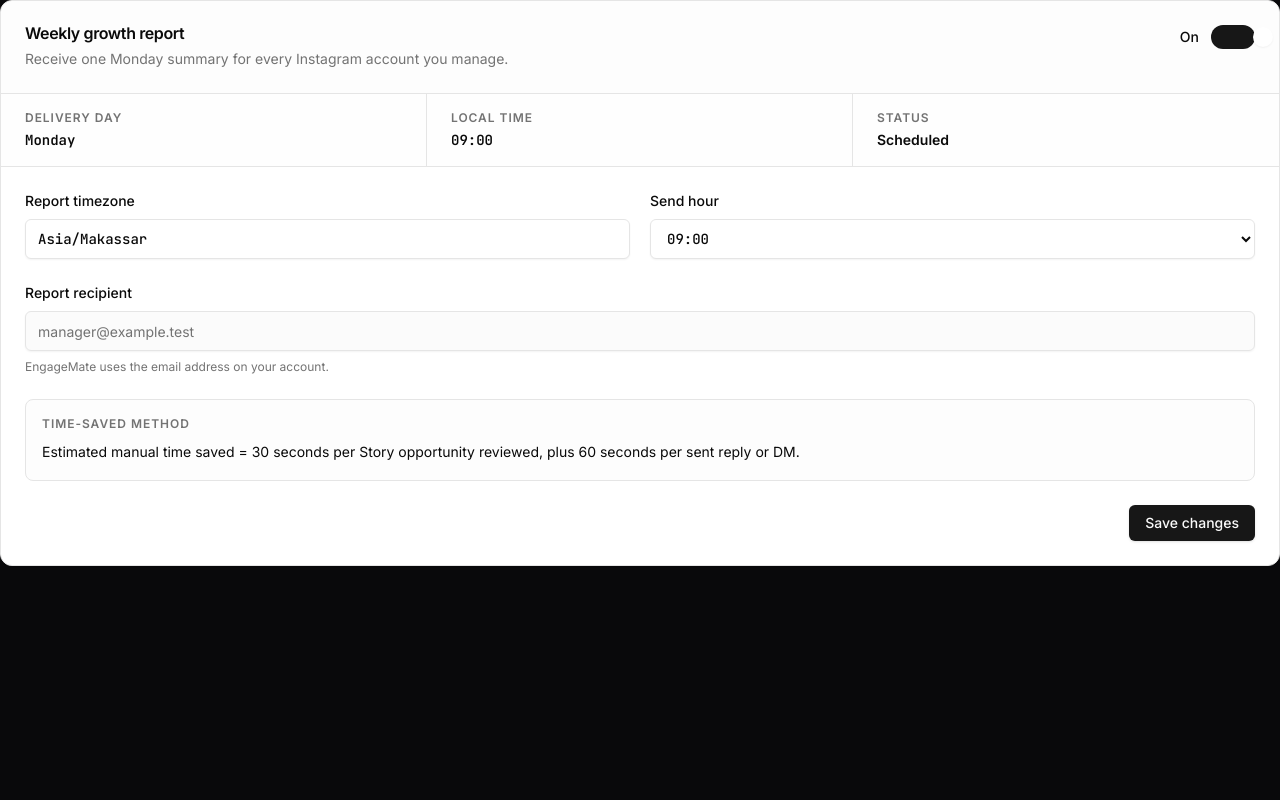
Test case: WeeklyReportSettings › sends only the exact preference shape and confirms the save
Click the switch named "Weekly growth report" at (1233, 37), box [1211,25,1255,49]
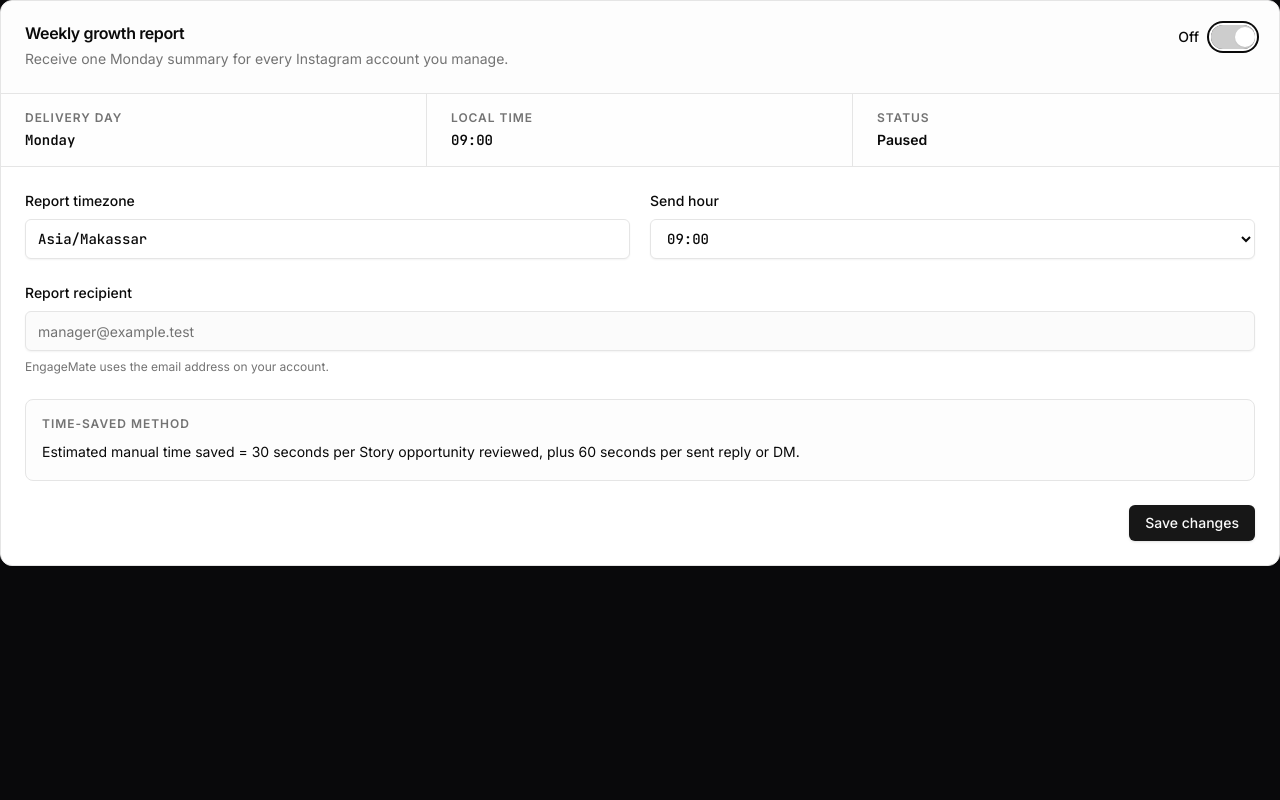
Click the button "Save changes" at (1192, 523), box [1129,505,1255,541]
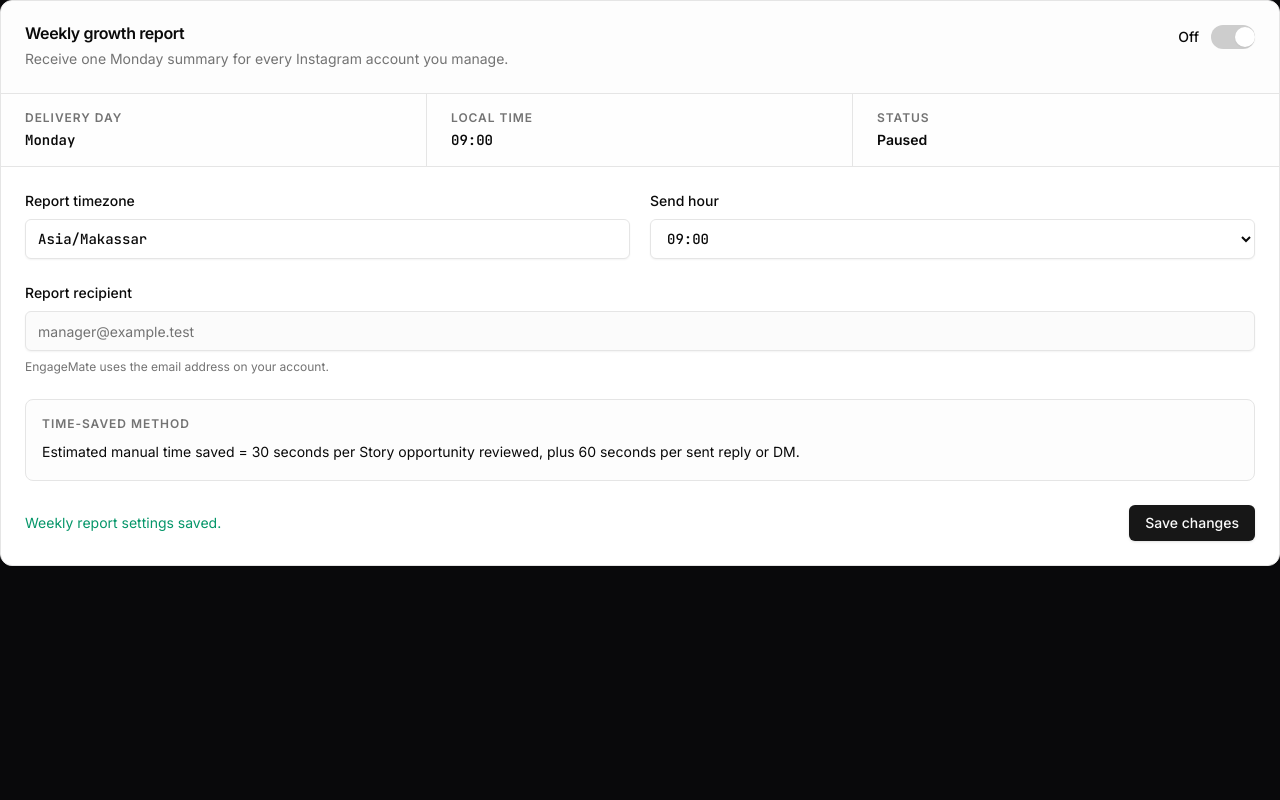
Expected: the message reads "Weekly report settings saved.", [25,514,221,531]
